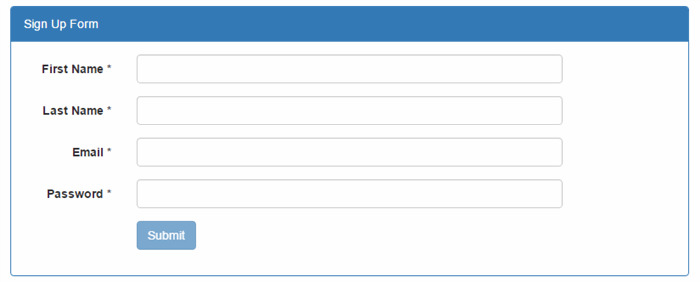_form_: (37, 1, 569, 261)
button: (134, 220, 197, 251)
field: (134, 95, 564, 126), (134, 137, 564, 167), (134, 54, 562, 84), (134, 179, 564, 208)
field_with_label: (41, 94, 566, 128), (40, 52, 565, 85), (72, 135, 566, 169), (46, 178, 567, 209)
